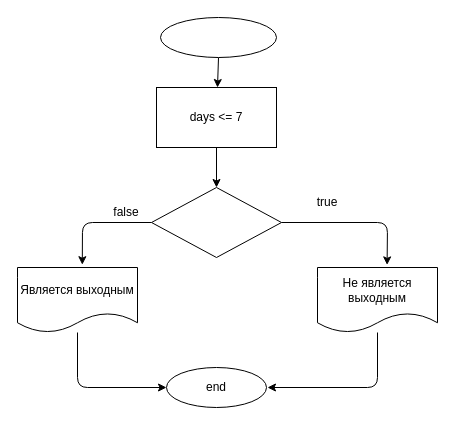
This 455x425 diagram has some shape labels left out. Each missing label, with the centre of its shape:
days < 6: point 216,222
start: point 218,37
